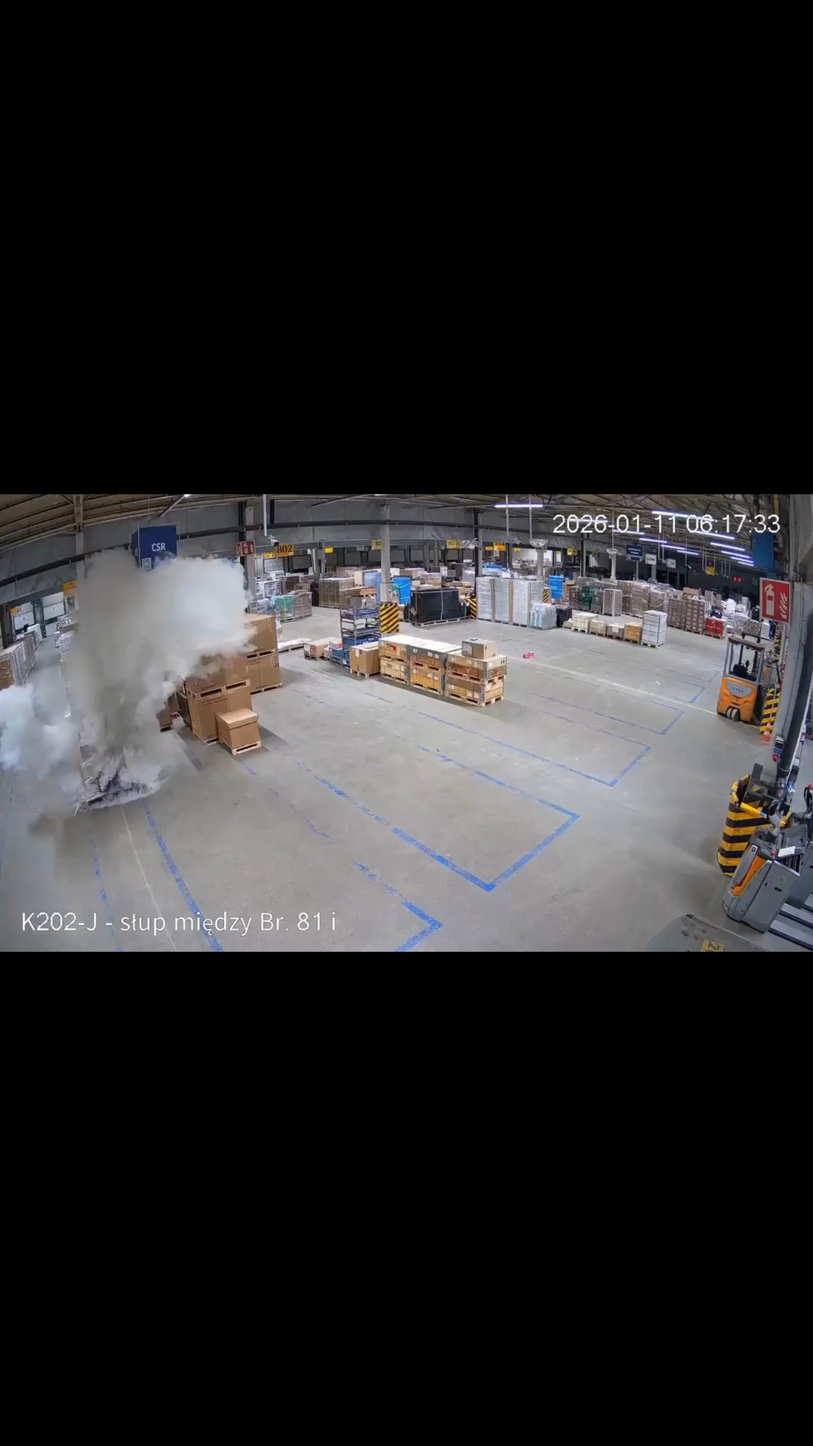smoke: (53, 559, 238, 760)
